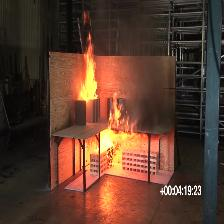fire: (101, 93, 140, 164), (79, 12, 98, 101)
